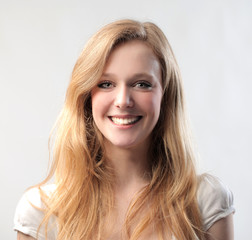teen: (74, 21, 174, 153)
